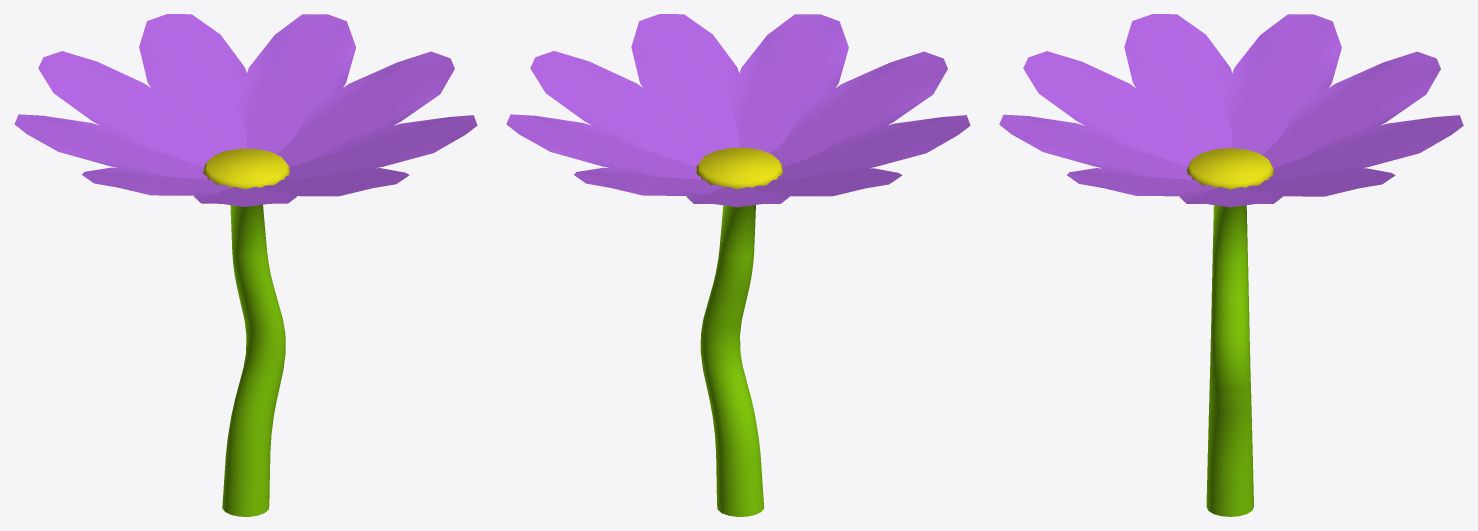
File: flower_.fbx
The picture shows the model from 3 angles, left to right: view 1: azimuth 30°, elevation 25°; view 2: azimuth 150°, elevation 25°; view 3: azimuth 270°, elevation 25°; orthographic projection.
Parts seen in each view (by area): view 1: Circle, Circle.002; view 2: Circle, Circle.002; view 3: Circle, Circle.002.
Boxes of the visible parts, <box> form: Circle: <box>14,14,477,206</box>; Circle.002: <box>203,148,289,516</box>; Circle: <box>506,14,970,207</box>; Circle.002: <box>696,147,782,516</box>; Circle: <box>999,14,1463,207</box>; Circle.002: <box>1187,148,1273,516</box>.
Bounding box in the file's own units: 735 × 708 × 745.
